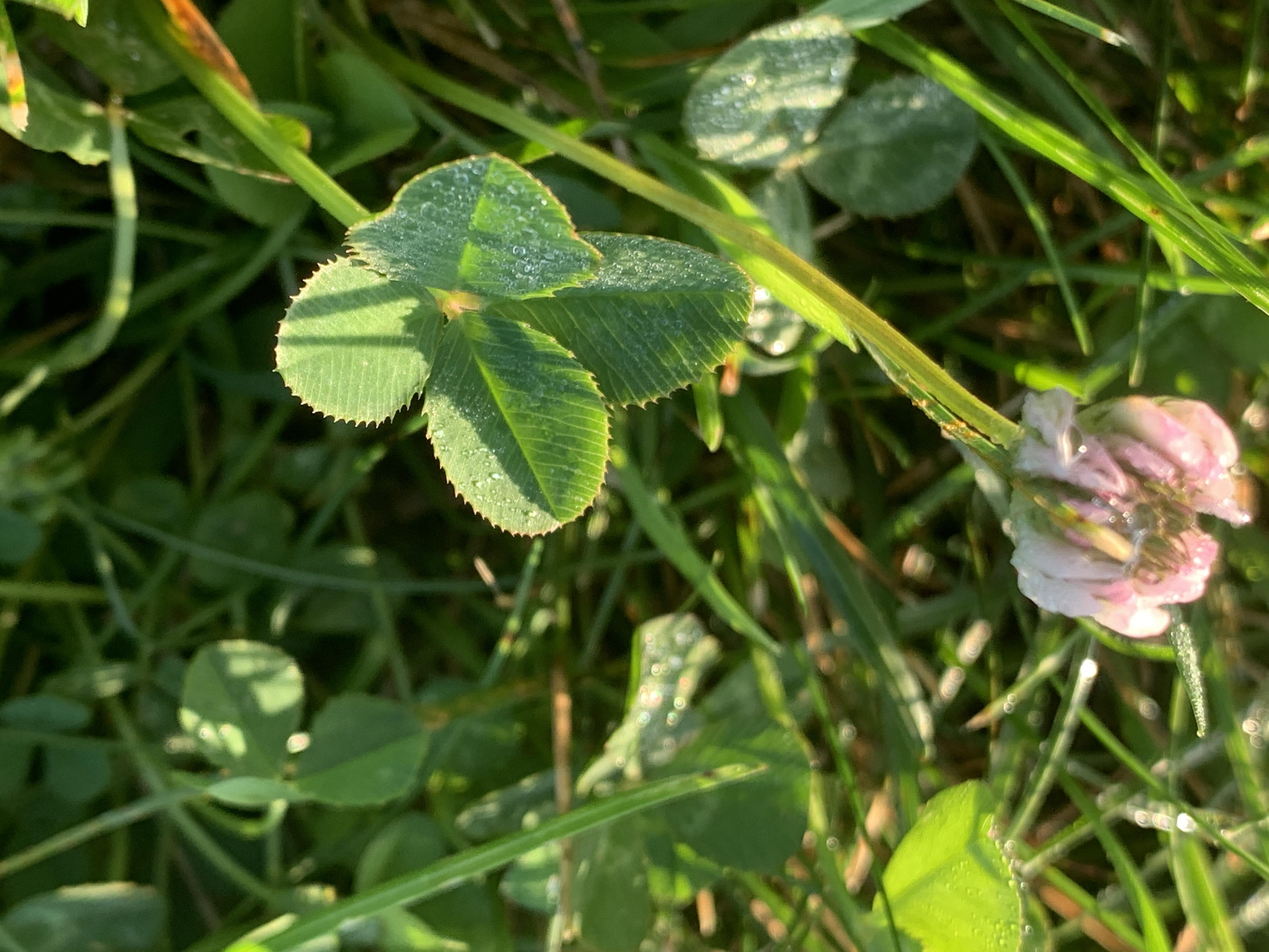4-Leaf-Clovers: (517, 417, 995, 790)
